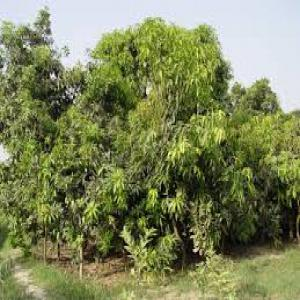Tree: (44, 12, 299, 272)
